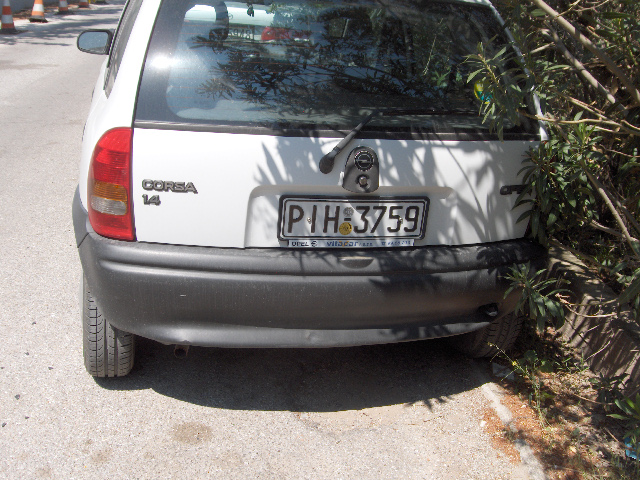licenseplate: (278, 195, 427, 241)
